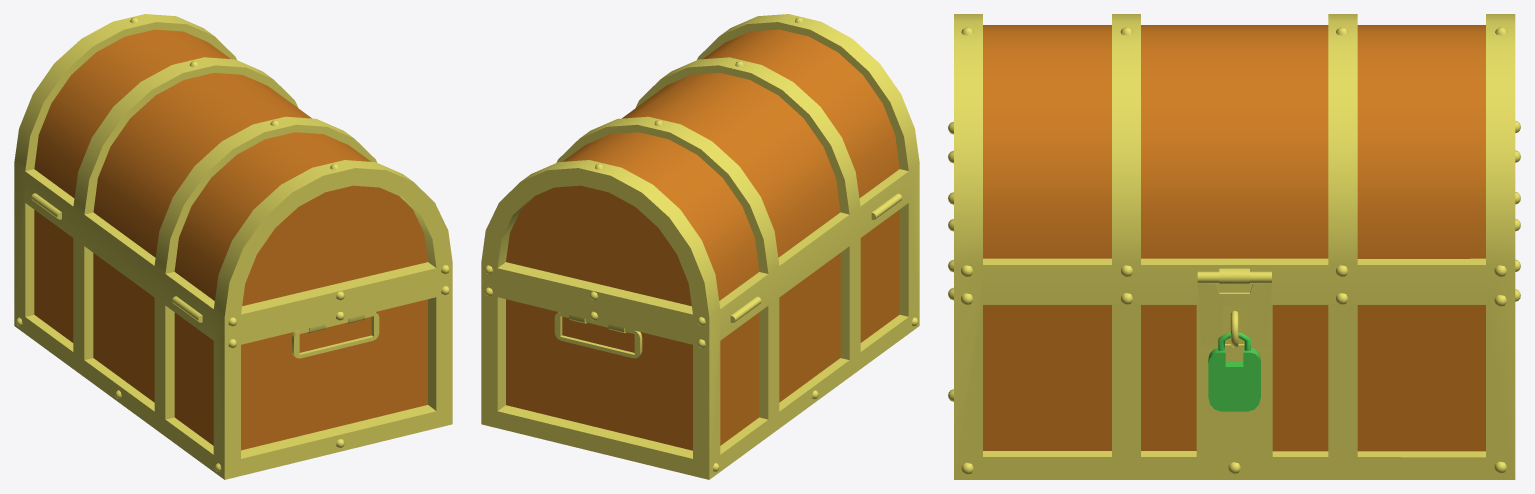
Rendered from Сундук.fbx.
3 views of the same model, side by side, from view 1: azimuth 30°, elevation 25°; view 2: azimuth 150°, elevation 25°; view 3: azimuth 270°, elevation 25° (orthographic). The views are drawn at different scales.
Parts seen in each view (by area): view 1: Dower chest; view 2: Dower chest; view 3: Dower chest.
Part boxes in pixels (box(x1,y1,x2,y2)): Dower chest: box(14, 14, 452, 479); Dower chest: box(481, 14, 919, 479); Dower chest: box(948, 14, 1520, 479).
Size of the model in its own units: 60.79 by 66.45 by 91.11.
